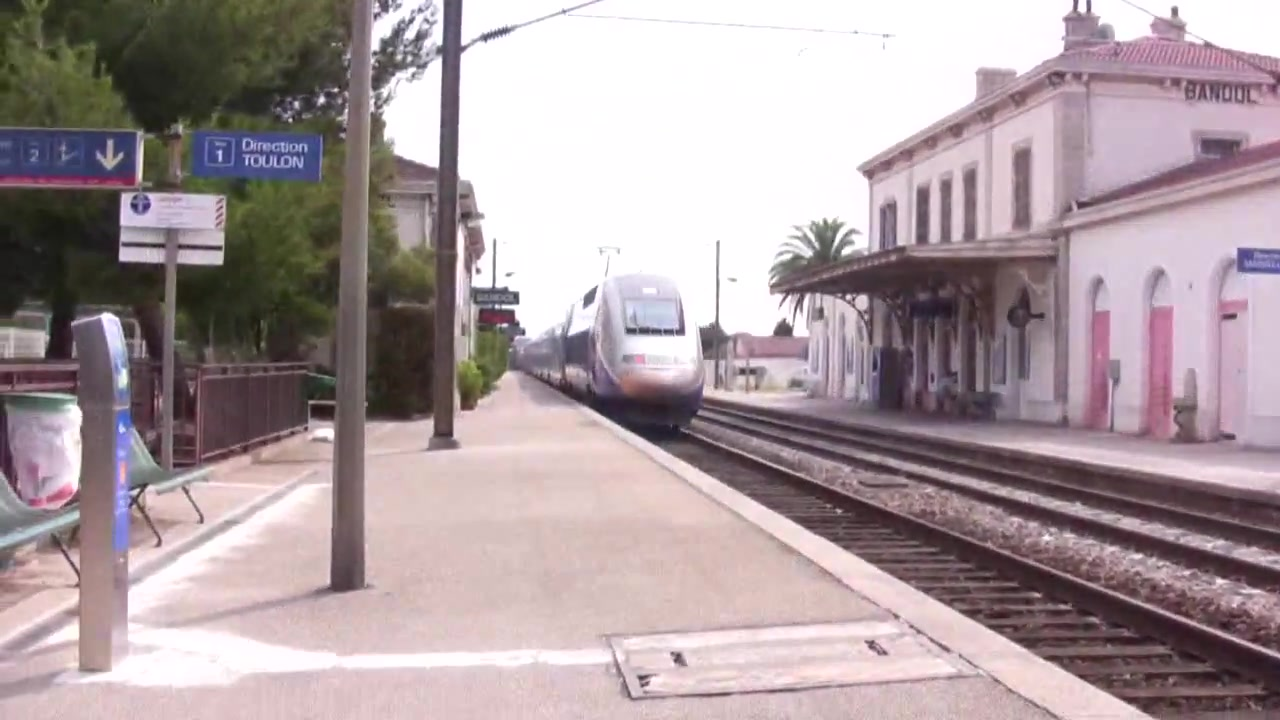train: (518, 269, 709, 432)
